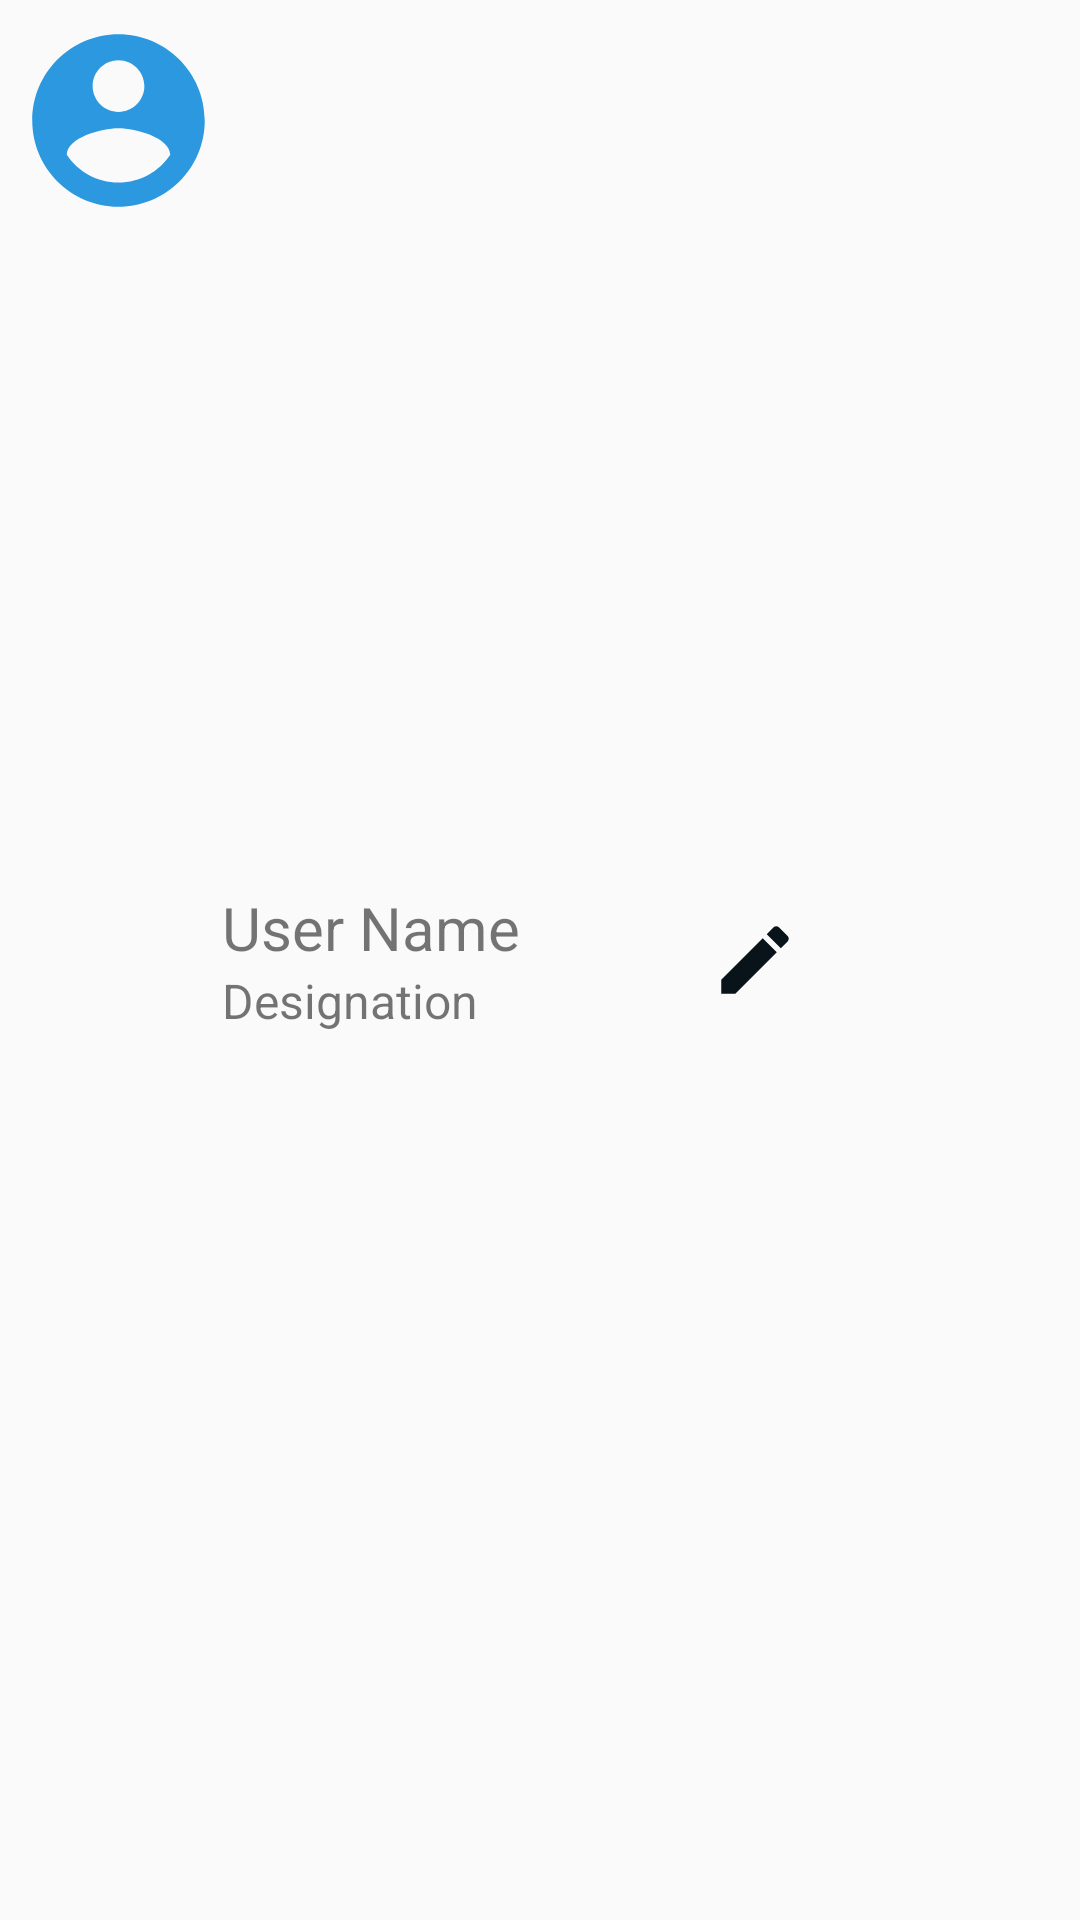

Icon bounding boxes for this 1080px x 1920px phone screenshot, format bbox=(x1, y1, x2, y2):
account circle: bbox=(32, 34, 205, 207)
edit: bbox=(721, 926, 789, 994)
